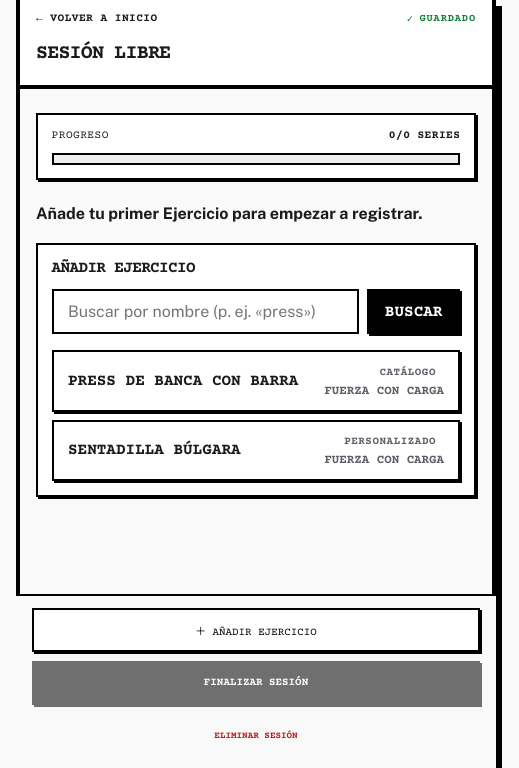
Scenario: pantalla de la Sesión activa › muestra Guardando y Error al guardar y permite reintentar
The image size is (519, 768).
Click the button "Press de banca con barra Catálogo Fuerza con carga" at (256, 381), box x1=52 y1=350 x2=460 y2=412
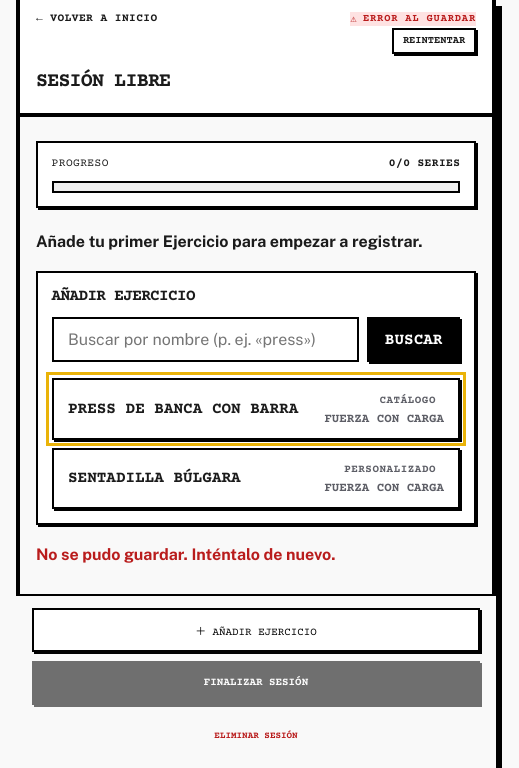
Check: the text "Guardando…" is shown, box x1=350 y1=12 x2=476 y2=26
Check: the text "Error al guardar" is shown, box x1=363 y1=13 x2=476 y2=25
Click the button "Reintentar" at (434, 41), box x1=392 y1=28 x2=476 y2=54
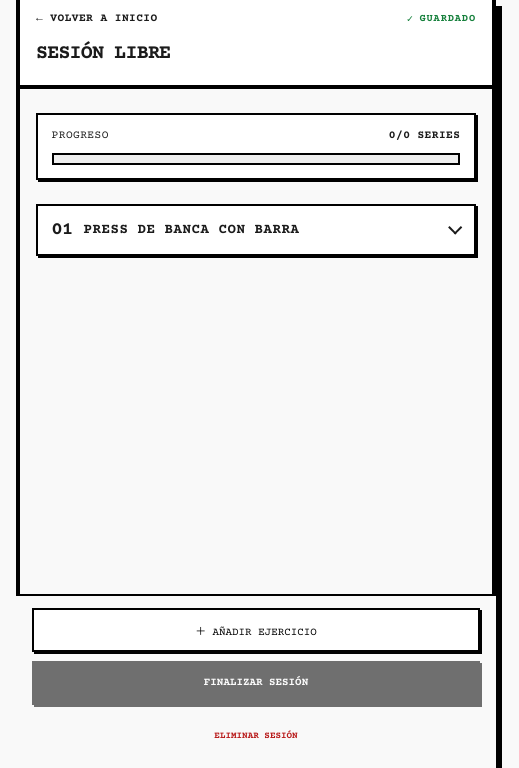
Check: the text "Guardado" is shown, box x1=420 y1=13 x2=476 y2=25
